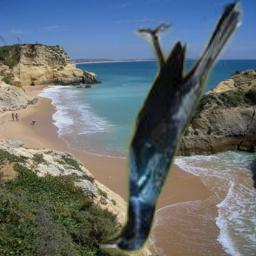Crow: (99, 0, 244, 256)
